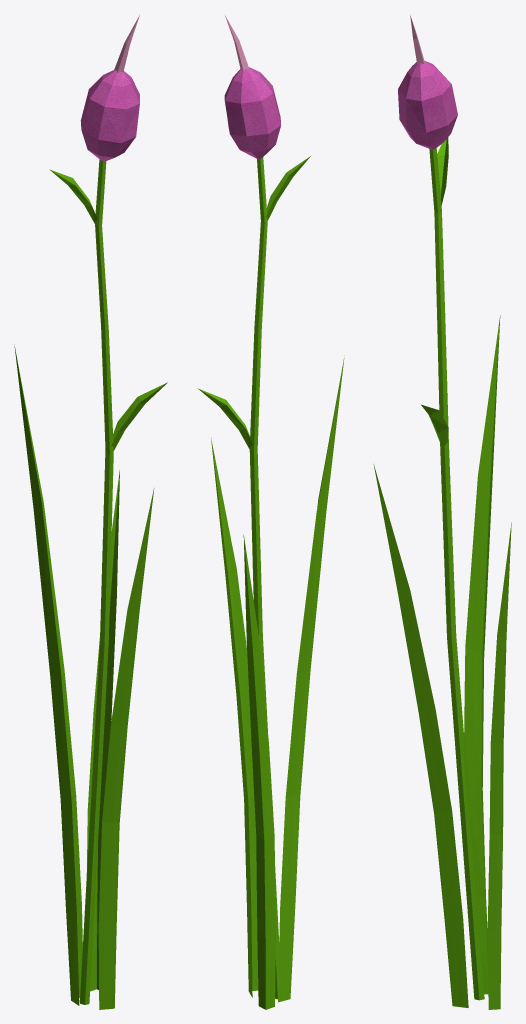
The model's file is PuffReed1_Pink.fbx.
The picture shows the model from 3 angles, left to right: view 1: azimuth 30°, elevation 25°; view 2: azimuth 210°, elevation 25°; view 3: azimuth 270°, elevation 25°; orthographic projection. The views are drawn at different scales.
Parts seen in each view (by area): view 1: Mesh; view 2: Mesh; view 3: Mesh.
Boxes of the visible parts, bbox=[...] form: Mesh: bbox=[14, 15, 167, 1009]; Mesh: bbox=[198, 15, 344, 1009]; Mesh: bbox=[373, 15, 511, 1009].
Size of the model in its own units: 42.36 by 359 by 45.29.
